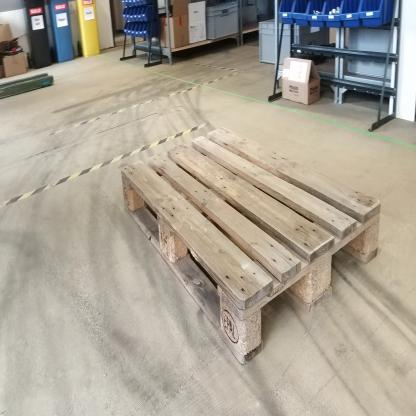BoxFace: (119, 122, 383, 375)
